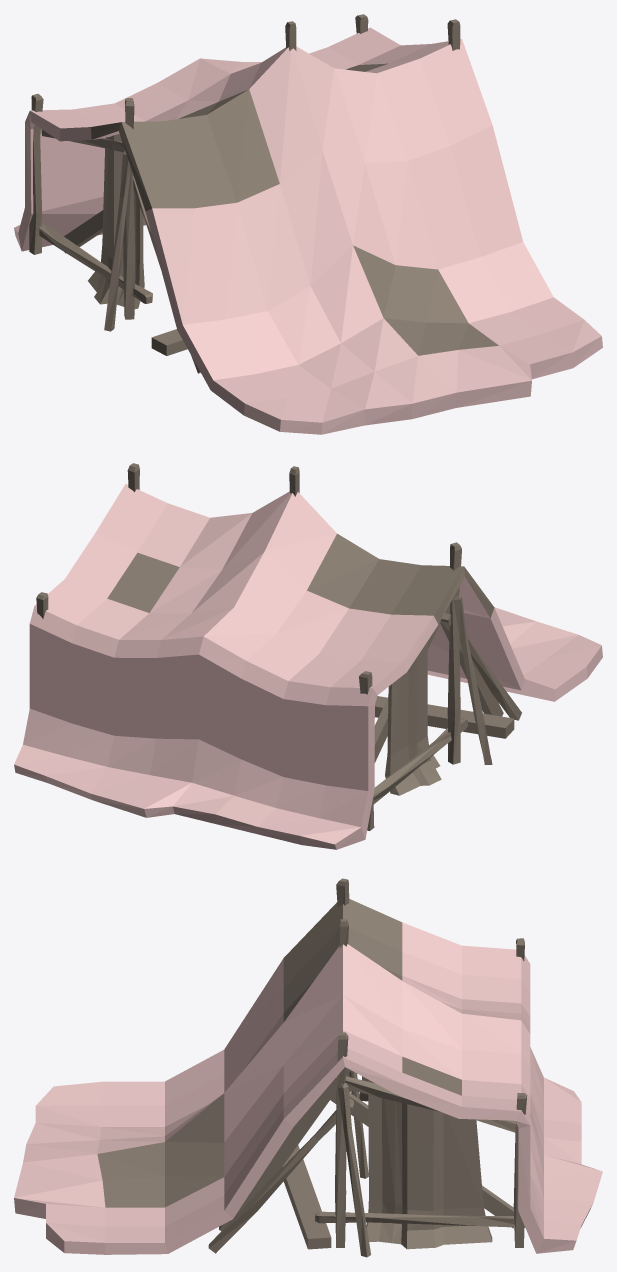
File: SM_Bld_Tent_05.glb
The picture shows the model from 3 angles, top to bottom: view 1: azimuth 30°, elevation 25°; view 2: azimuth 150°, elevation 25°; view 3: azimuth 270°, elevation 25°; orthographic projection. The views are drawn at different scales.
Visible parts, largest first — view 1: SM_Bld_Tent_05_00; view 2: SM_Bld_Tent_05_00; view 3: SM_Bld_Tent_05_00.
Boxes of the visible parts, x1,y1,x2,y2 form: SM_Bld_Tent_05_00: (14, 14, 602, 434); SM_Bld_Tent_05_00: (14, 463, 602, 849); SM_Bld_Tent_05_00: (14, 878, 602, 1257).
Size of the model in its own units: 4.22 by 2.84 by 5.85.
1 material, 1 textured.
